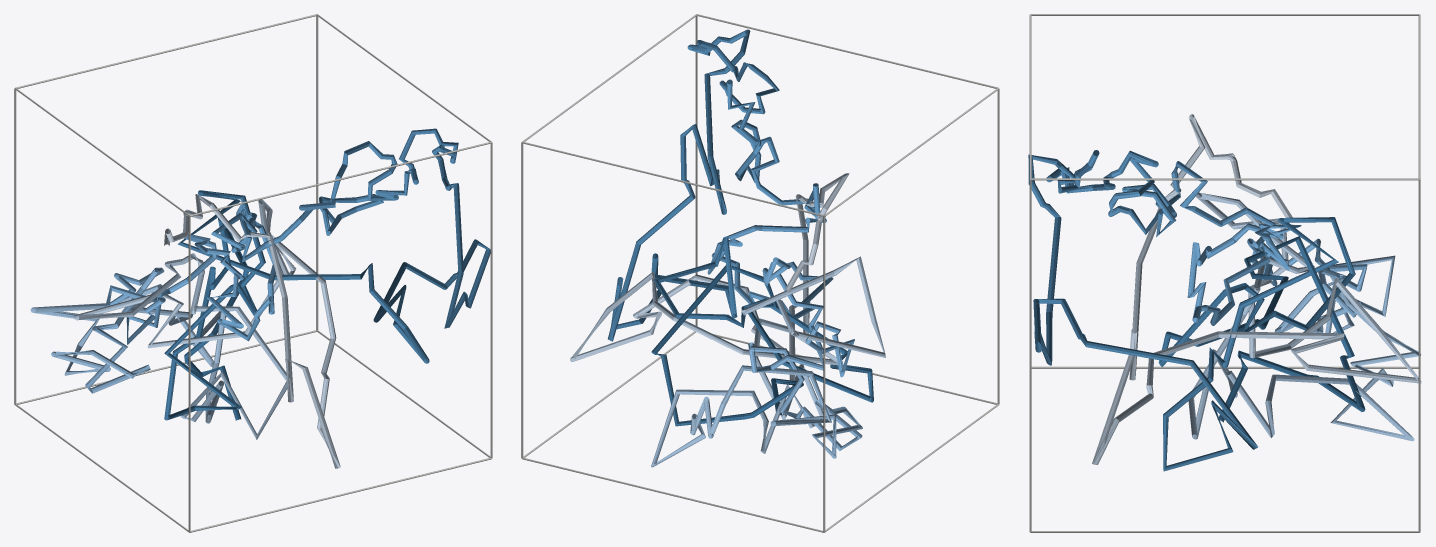
3 renders of one model, left to right at view 1: azimuth 30°, elevation 25°; view 2: azimuth 150°, elevation 25°; view 3: azimuth 270°, elevation 25°, orthographic. The views are drawn at different scales.
Visible parts, largest first — view 1: geometry_0, geometry_1; view 2: geometry_0, geometry_1; view 3: geometry_0, geometry_1.
Part boxes in pixels (x1,y1,x2,y2): geometry_0: [30, 128, 490, 468]; geometry_1: [14, 14, 492, 532]; geometry_0: [570, 29, 885, 467]; geometry_1: [521, 14, 999, 532]; geometry_0: [1028, 114, 1421, 471]; geometry_1: [1029, 14, 1420, 532].
Size of the model in its own units: 0.3038 by 0.3034 by 0.3032.
